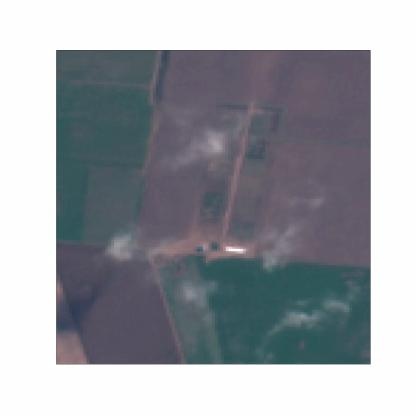silobolsa: (223, 244, 248, 254)
